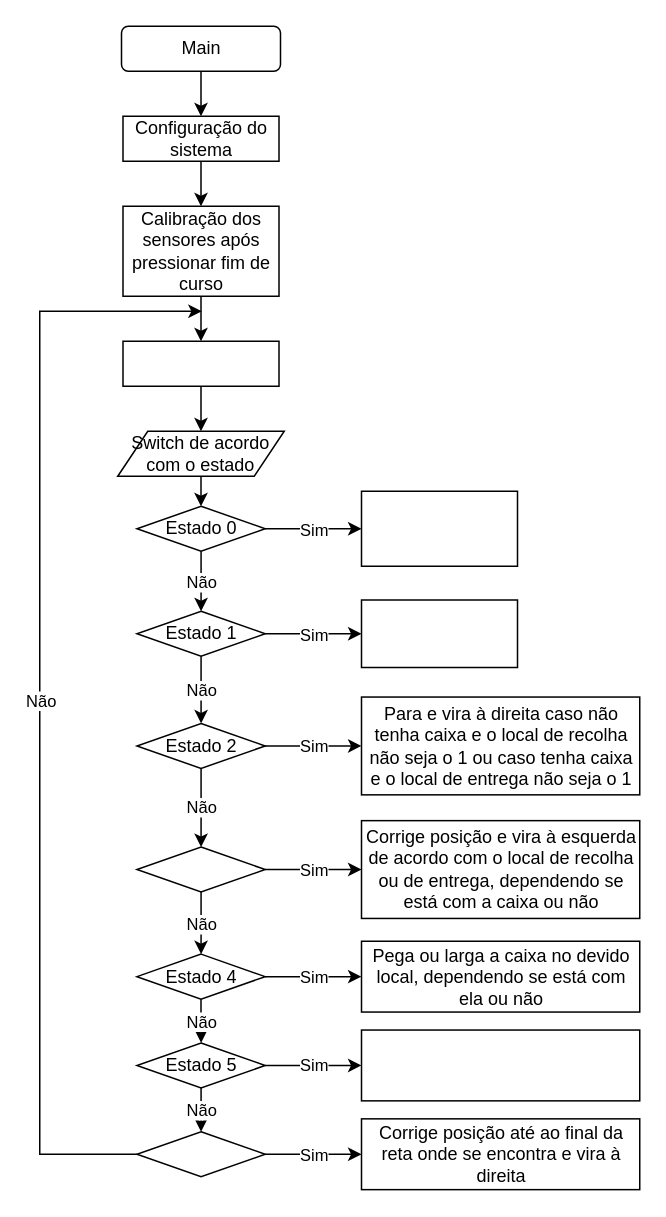
The diagram is 666 pixels wide and 1217 high, and some of its shapes have lost their labels. The centre of each missing label's shape, as x and y in pixels:
"Corrige posição enquanto anda em frente" goes at (x=439, y=633).
"Decisão do estado" goes at (x=200, y=363).
"Estado 3" goes at (x=200, y=869).
"Estado 6" goes at (x=200, y=1153).
"Faz marcha atrás até retornar ao circuito principal e, após isso, vira à direita" goes at (x=500, y=1065).
"Parado à espera que o fim de curso seja pressionado" goes at (x=439, y=528).
